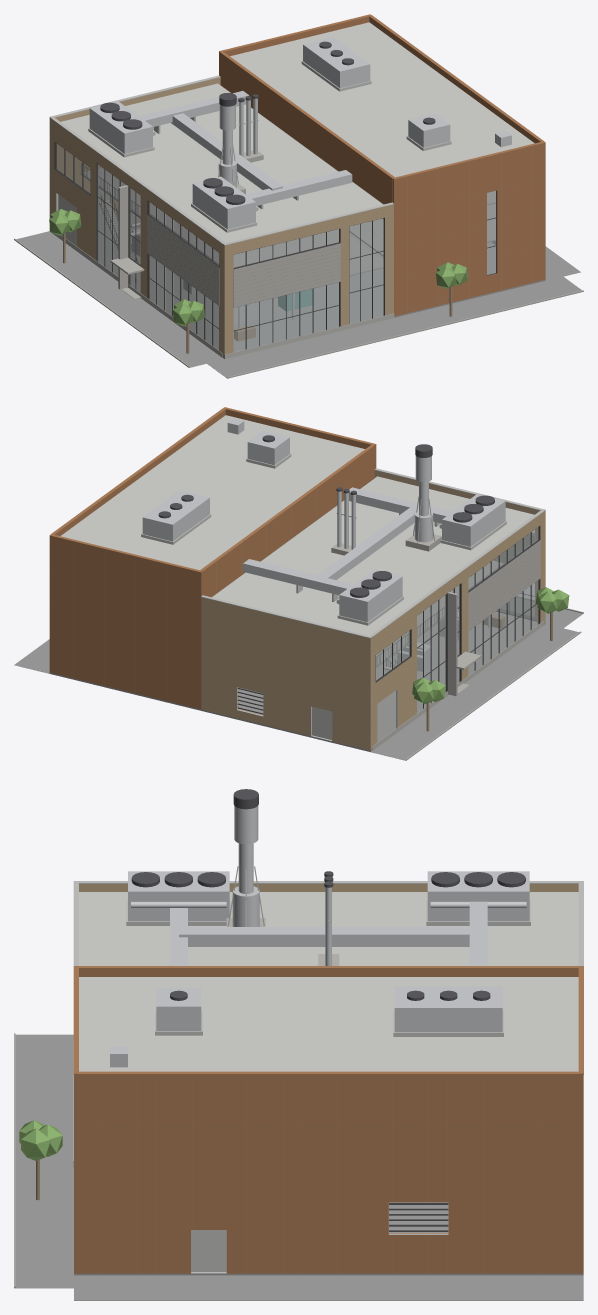
The model's file is clay-energy-centre-clay-v003.glb.
3 views of the same model, one above another, from view 1: azimuth 30°, elevation 25°; view 2: azimuth 150°, elevation 25°; view 3: azimuth 270°, elevation 25° (orthographic). The views are drawn at different scales.
Parts seen in each view (by area): view 1: CLAY_MEMBRANE, CLAY_CORTEN, CLAY_FOUNDATION, CLAY_GLASS, CLAY_STEEL, CLAY_WALL, CLAY_CONCRETE, CLAY_FLOOR, CLAY_TRIM, CLAY_PALE, CLAY_JOINT, CLAY_HARDWARE (+4 smaller); view 2: CLAY_MEMBRANE, CLAY_CORTEN, CLAY_WALL, CLAY_STEEL, CLAY_FOUNDATION, CLAY_GLASS, CLAY_CONCRETE, CLAY_PALE, CLAY_JOINT, CLAY_TRIM, CLAY_HARDWARE, CLAY_FLOOR (+2 smaller); view 3: CLAY_CORTEN, CLAY_MEMBRANE, CLAY_FOUNDATION, CLAY_STEEL, CLAY_PALE, CLAY_HARDWARE, CLAY_JOINT, CLAY_WALL, CLAY_PLANTING.
Part boxes in pixels (<box>): CLAY_MEMBRANE: <box>61,22,534,242</box>; CLAY_CORTEN: <box>219,14,545,316</box>; CLAY_FOUNDATION: <box>16,212,581,378</box>; CLAY_GLASS: <box>56,144,495,352</box>; CLAY_STEEL: <box>89,37,511,327</box>; CLAY_WALL: <box>49,77,393,357</box>; CLAY_CONCRETE: <box>51,150,394,359</box>; CLAY_FLOOR: <box>80,107,495,276</box>; CLAY_TRIM: <box>54,142,496,350</box>; CLAY_PALE: <box>49,61,495,274</box>; CLAY_JOINT: <box>51,109,542,352</box>; CLAY_HARDWARE: <box>81,41,435,283</box>; CLAY_MEMBRANE: <box>60,415,534,635</box>; CLAY_CORTEN: <box>49,407,376,709</box>; CLAY_WALL: <box>201,470,545,750</box>; CLAY_STEEL: <box>142,418,505,671</box>; CLAY_FOUNDATION: <box>14,598,582,760</box>; CLAY_GLASS: <box>376,527,538,712</box>; CLAY_CONCRETE: <box>331,533,544,750</box>; CLAY_PALE: <box>141,453,545,742</box>; CLAY_JOINT: <box>53,488,543,749</box>; CLAY_TRIM: <box>375,525,540,708</box>; CLAY_HARDWARE: <box>158,435,513,714</box>; CLAY_FLOOR: <box>212,500,503,668</box>; CLAY_CORTEN: <box>73,966,583,1273</box>; CLAY_MEMBRANE: <box>79,892,578,1071</box>; CLAY_FOUNDATION: <box>14,1034,583,1300</box>; CLAY_STEEL: <box>110,806,529,1067</box>; CLAY_PALE: <box>73,866,583,1273</box>; CLAY_HARDWARE: <box>131,789,525,1231</box>; CLAY_JOINT: <box>83,1075,574,1273</box>; CLAY_WALL: <box>79,884,578,891</box>; CLAY_PLANTING: <box>19,1120,62,1160</box>.
Size of the model in its own units: 44.1 by 21.9 by 38.03.
